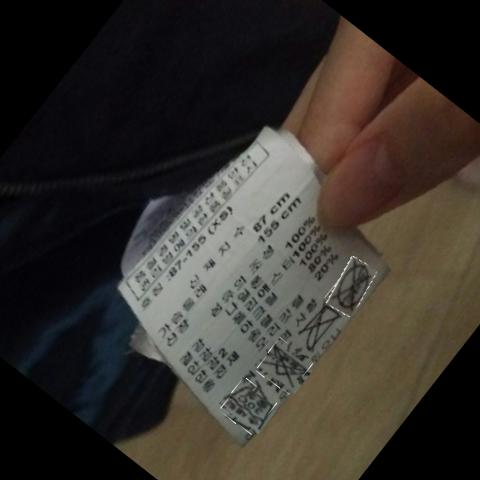DN_bleach: (262, 347, 310, 385)
DN_dry_clean: (338, 260, 383, 308)
DN_iron: (303, 304, 345, 350)
hand_wash: (214, 386, 276, 439)
